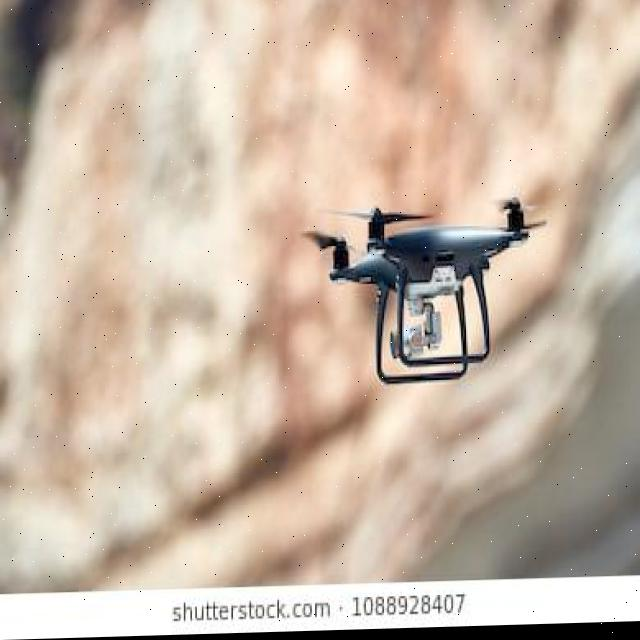drone: (268, 155, 568, 420)
